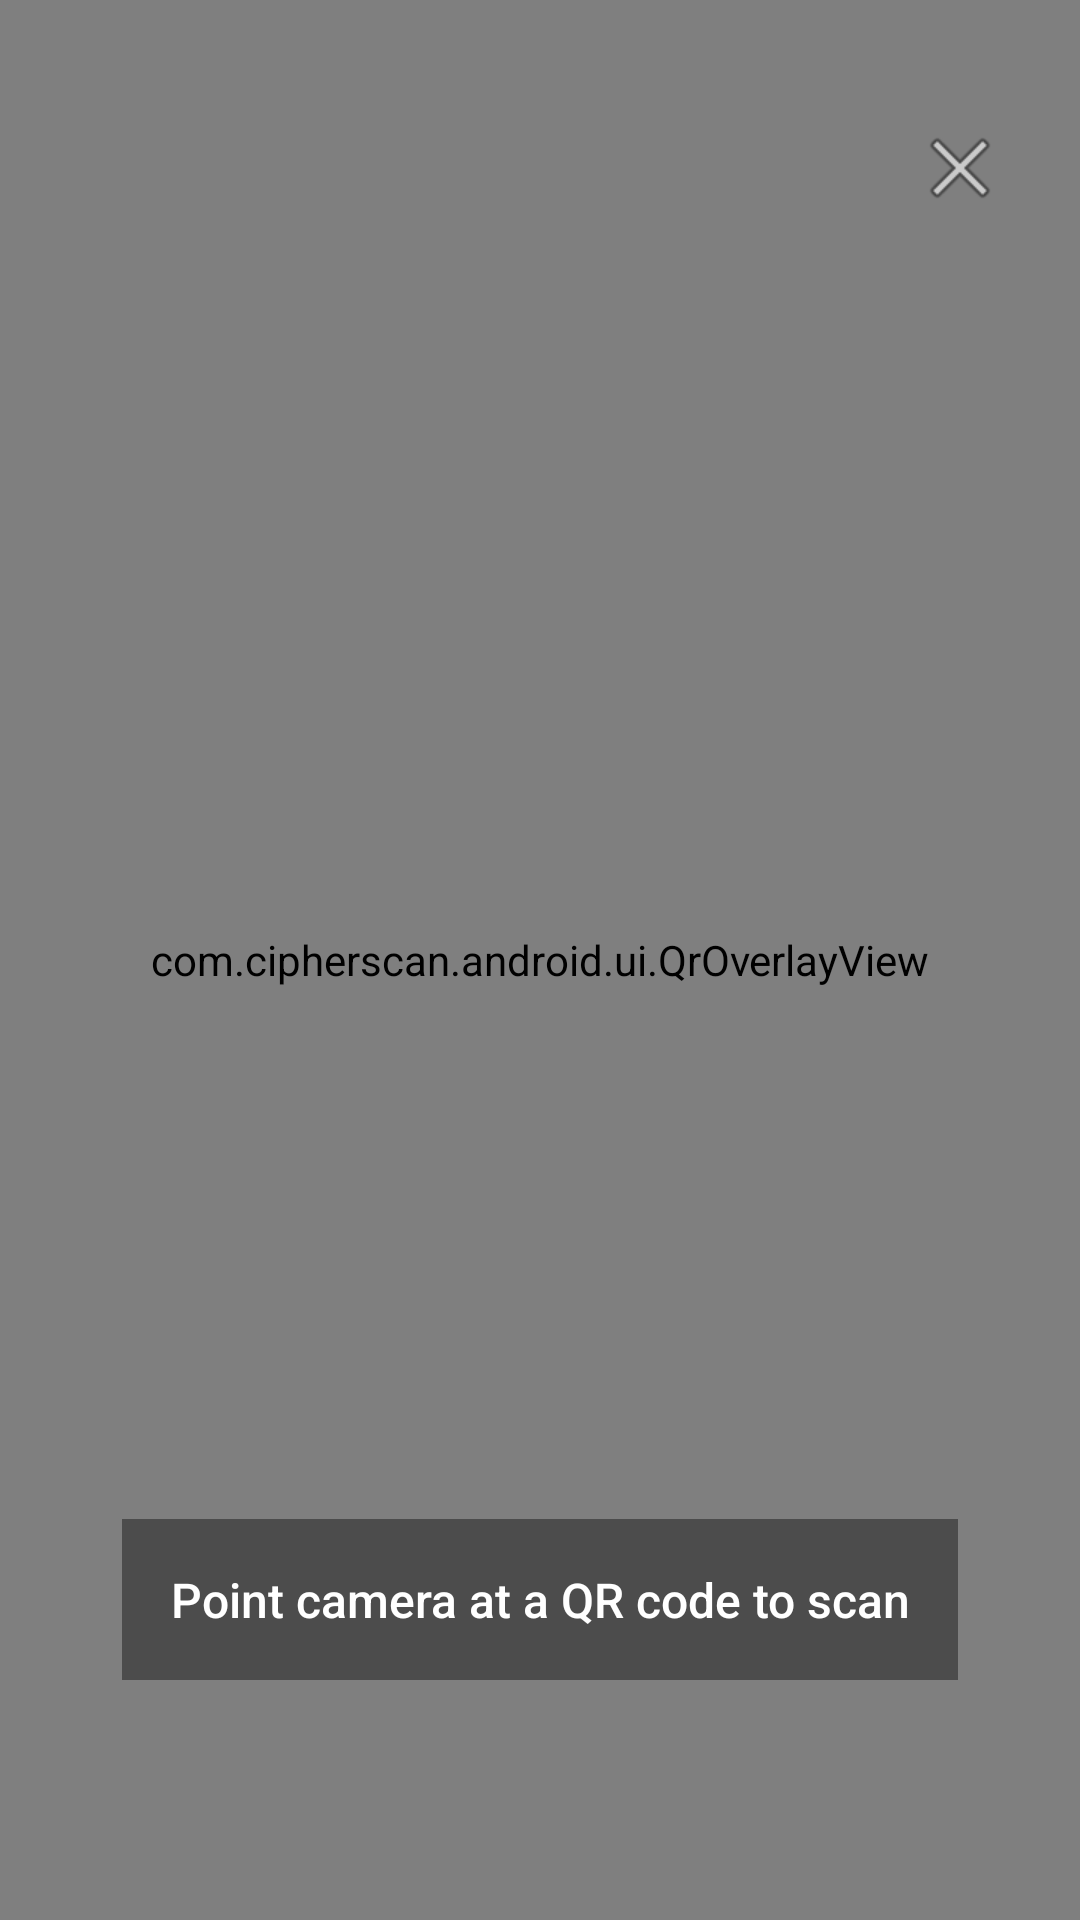

Icons on this 1080w x 1920h Android screen, each with the point to tap as [x,y]:
Close scanner: [960,168]
